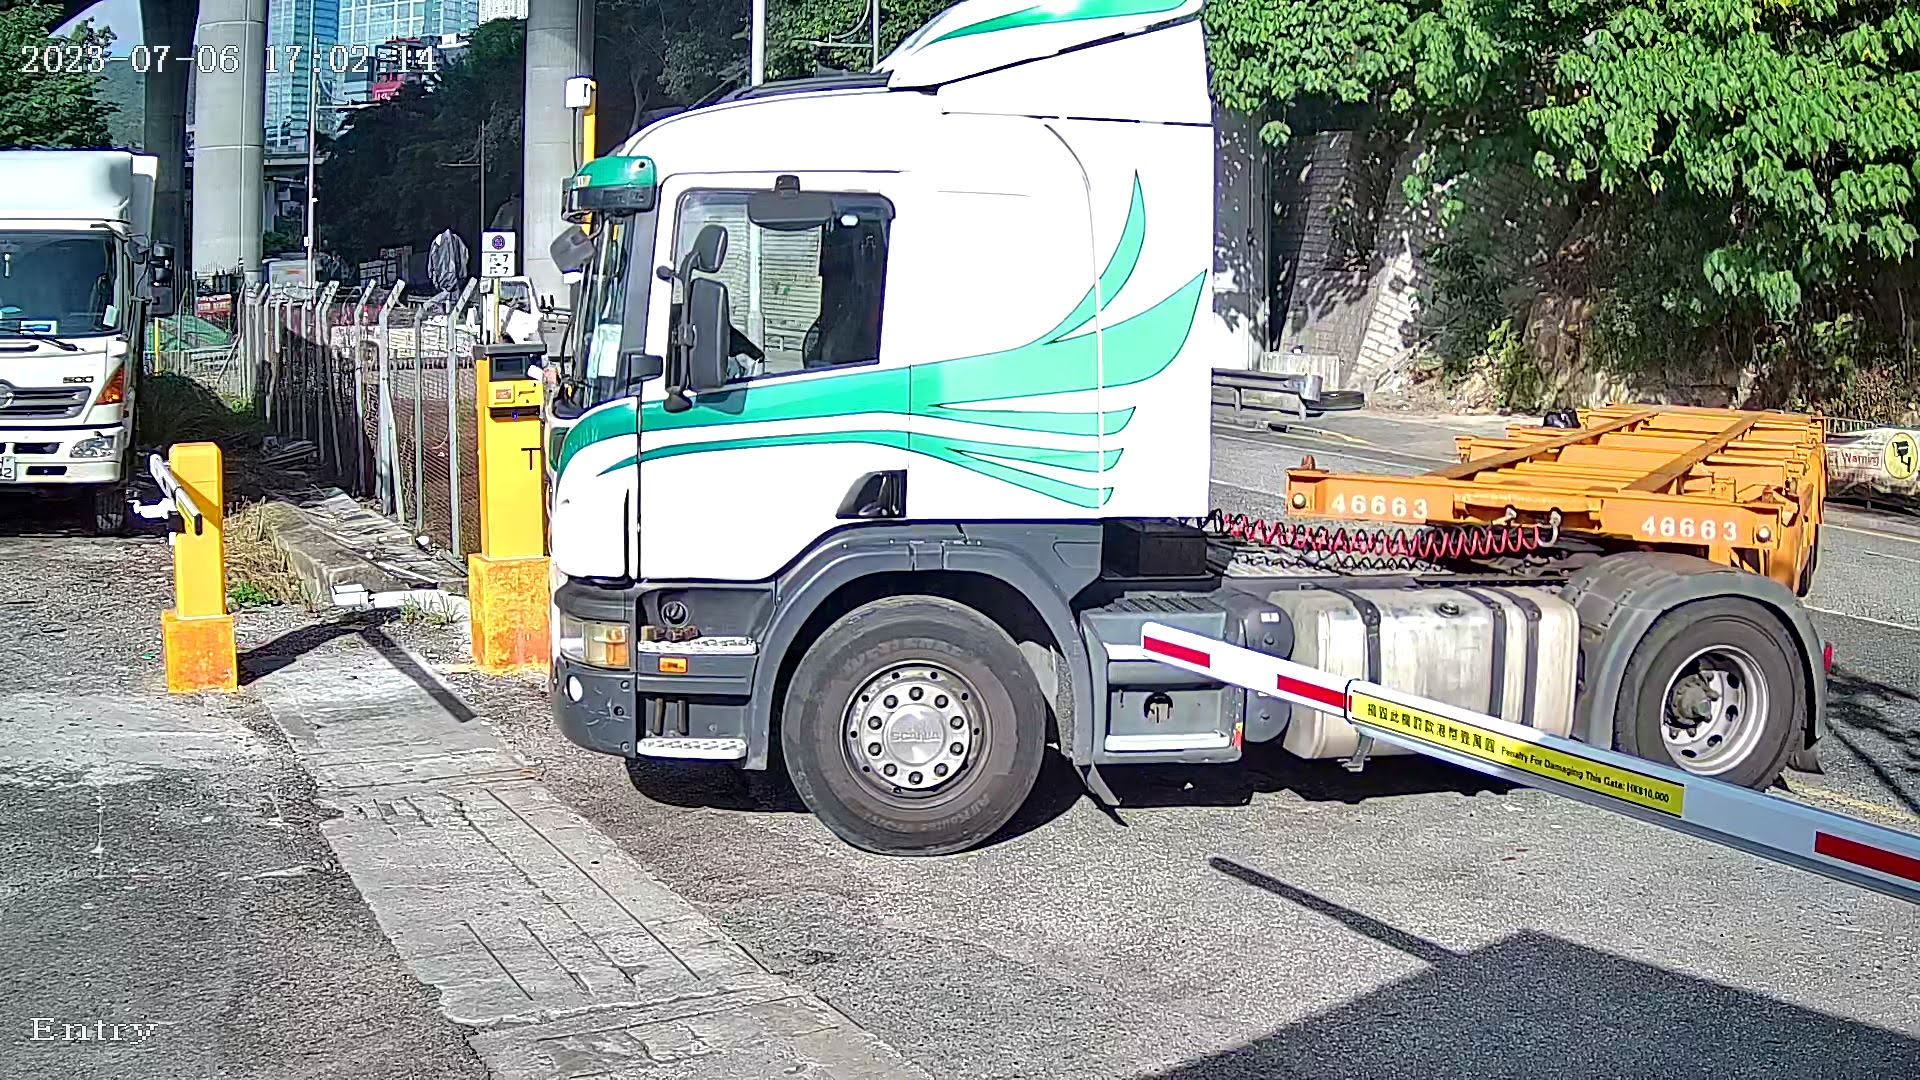tractor: (520, 1, 1882, 866)
